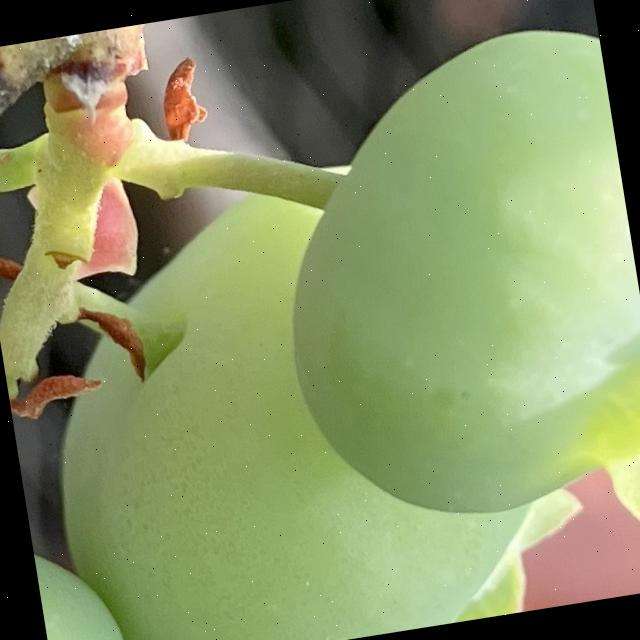Blueberries: (246, 13, 640, 571)
